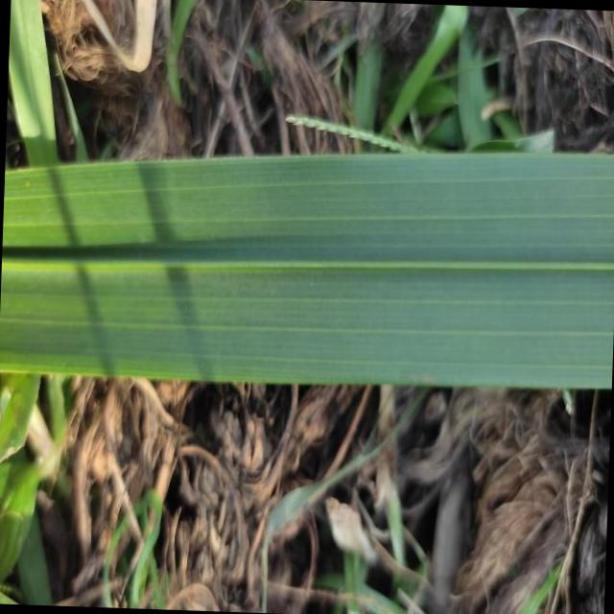Healthy: (0, 153, 614, 387)
